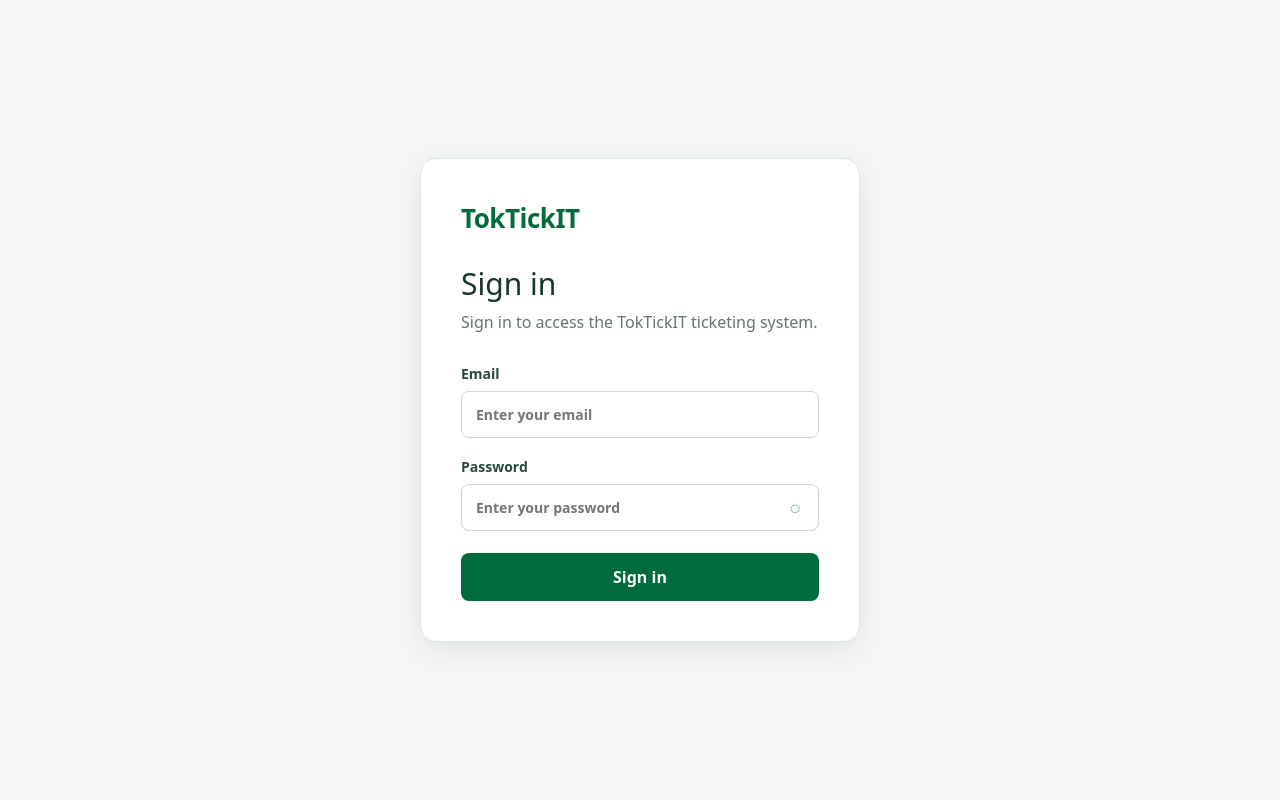
Test case: Lab 3 Login UI › logs in with the entered email and password
Type "admin@example.com" into the field labelled "Email" at (640, 415), box [461,391,819,438]
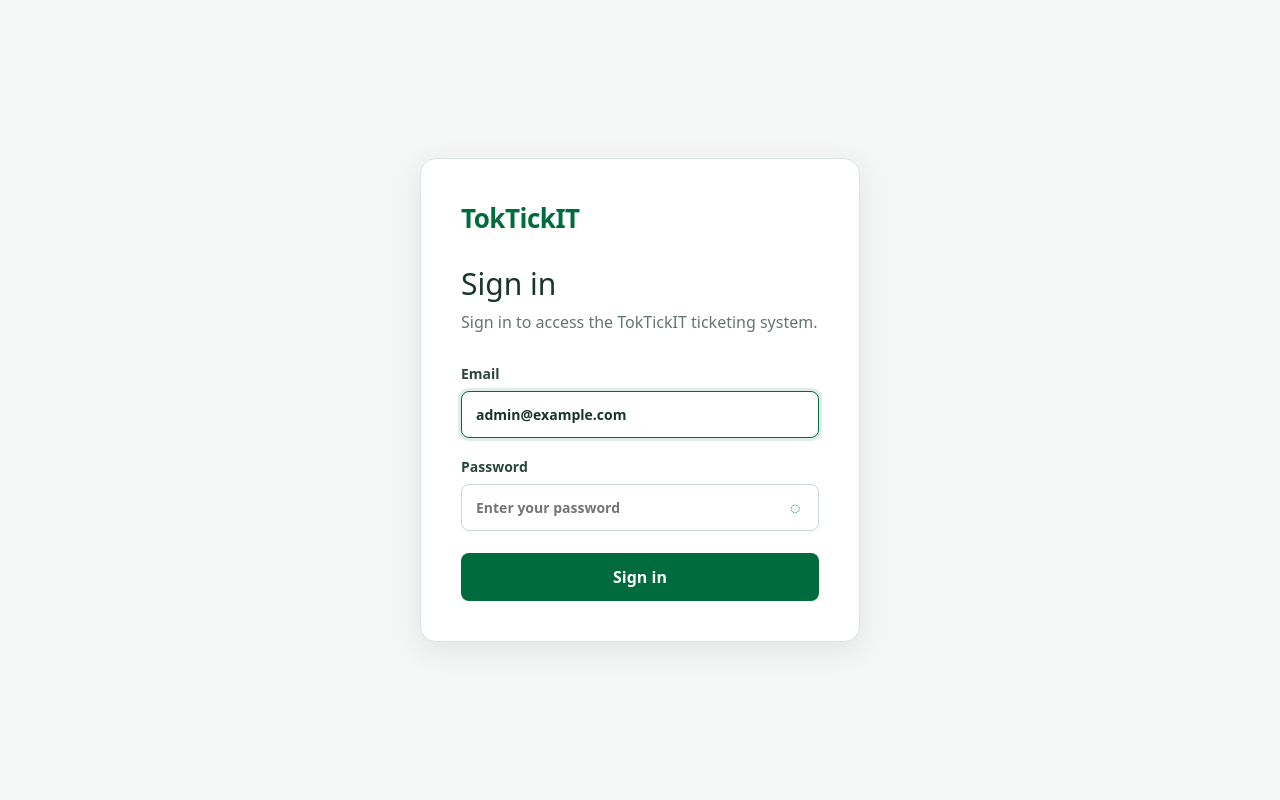
Type "AdminPassword123!" into the password field with placeholder "Enter your password" at (640, 508), box [461,484,819,531]
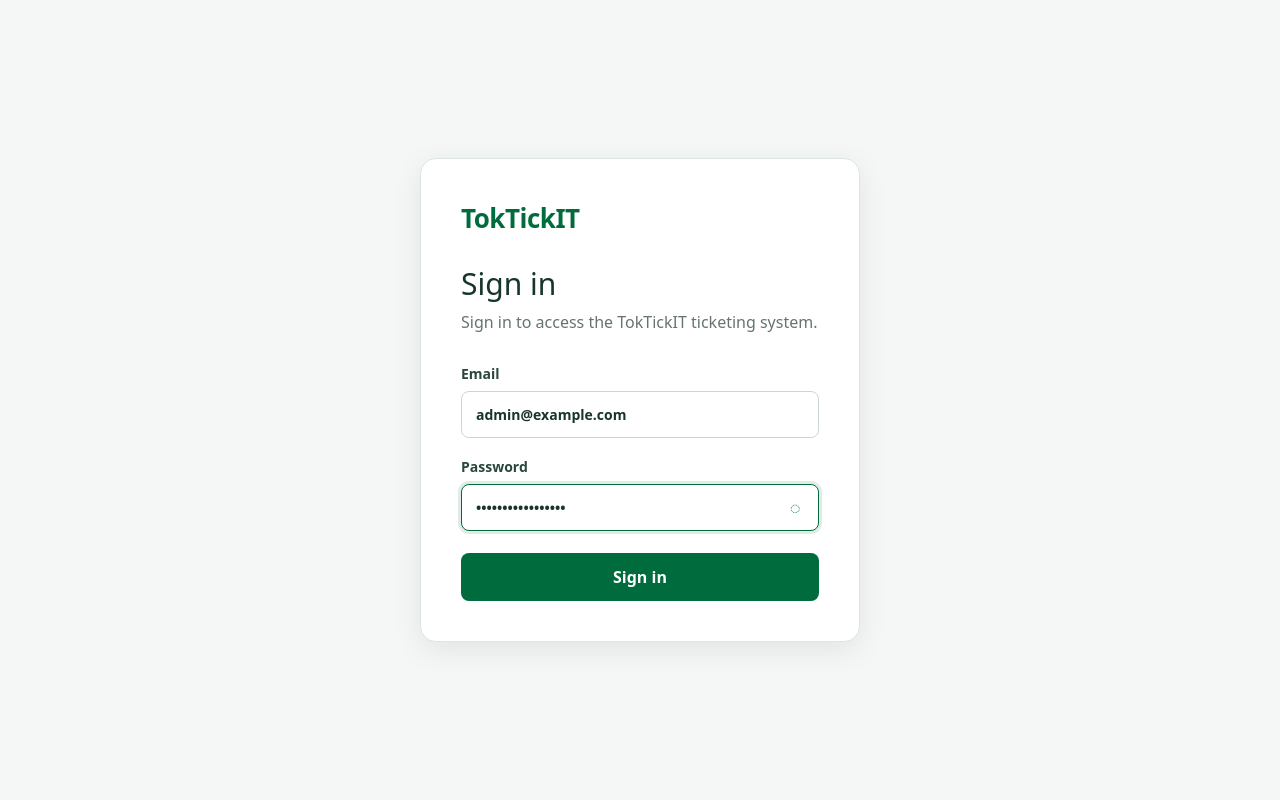
Click the button "Sign in" at (640, 577), box [461,553,819,601]
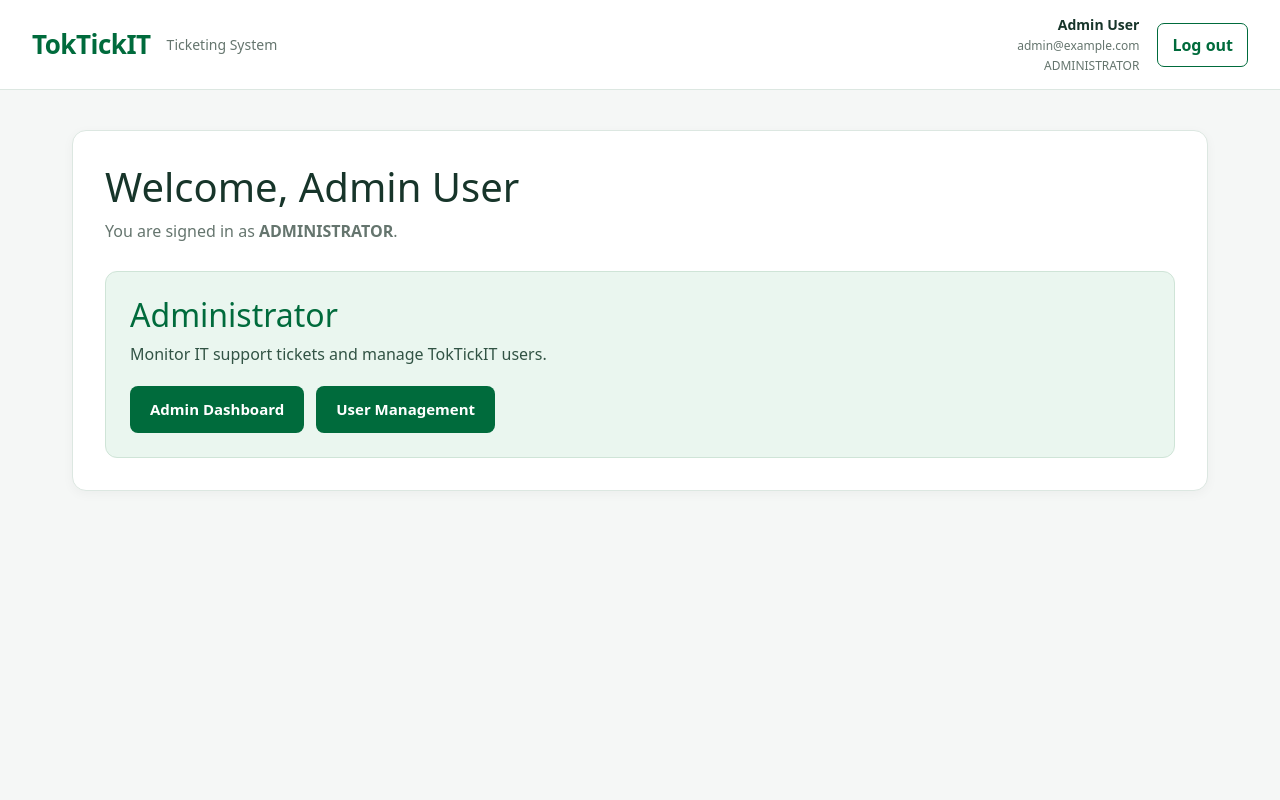
Check: the button "User Management" is shown, box [316,386,495,433]
